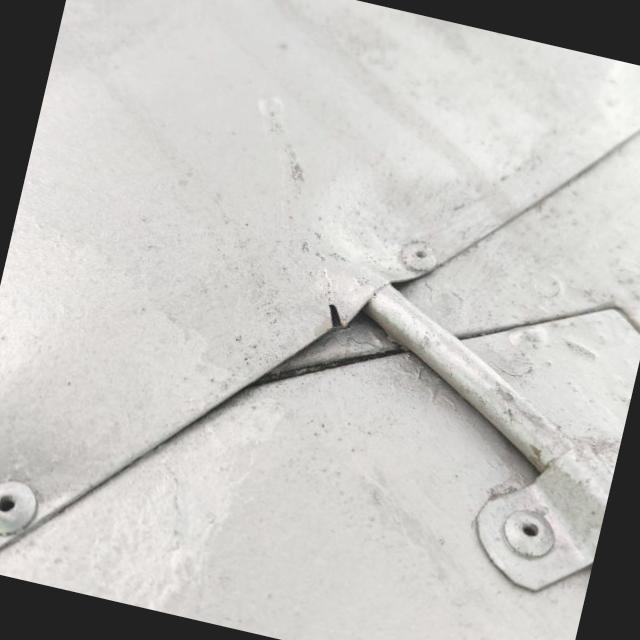crack: (300, 279, 370, 354)
